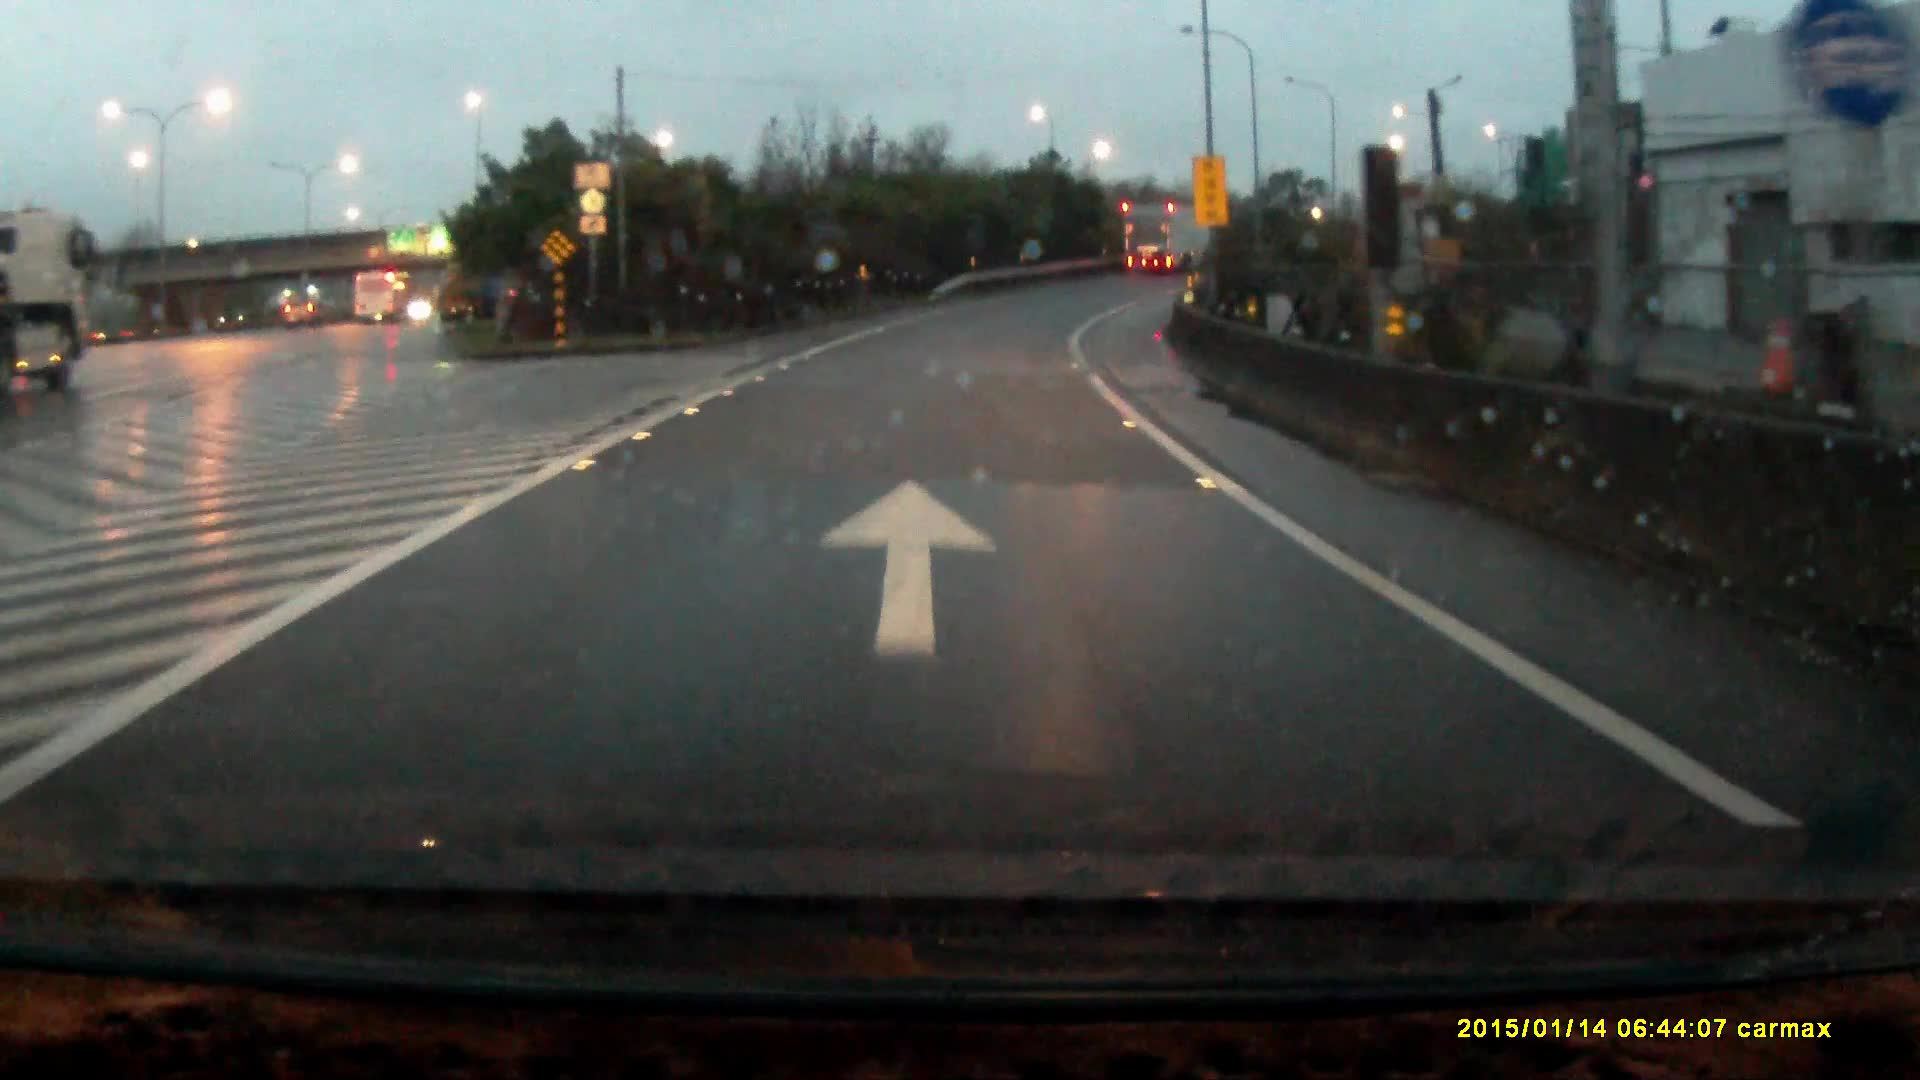vehicle: (1, 208, 104, 400), (1120, 203, 1222, 278), (353, 273, 411, 328), (286, 301, 318, 331)
